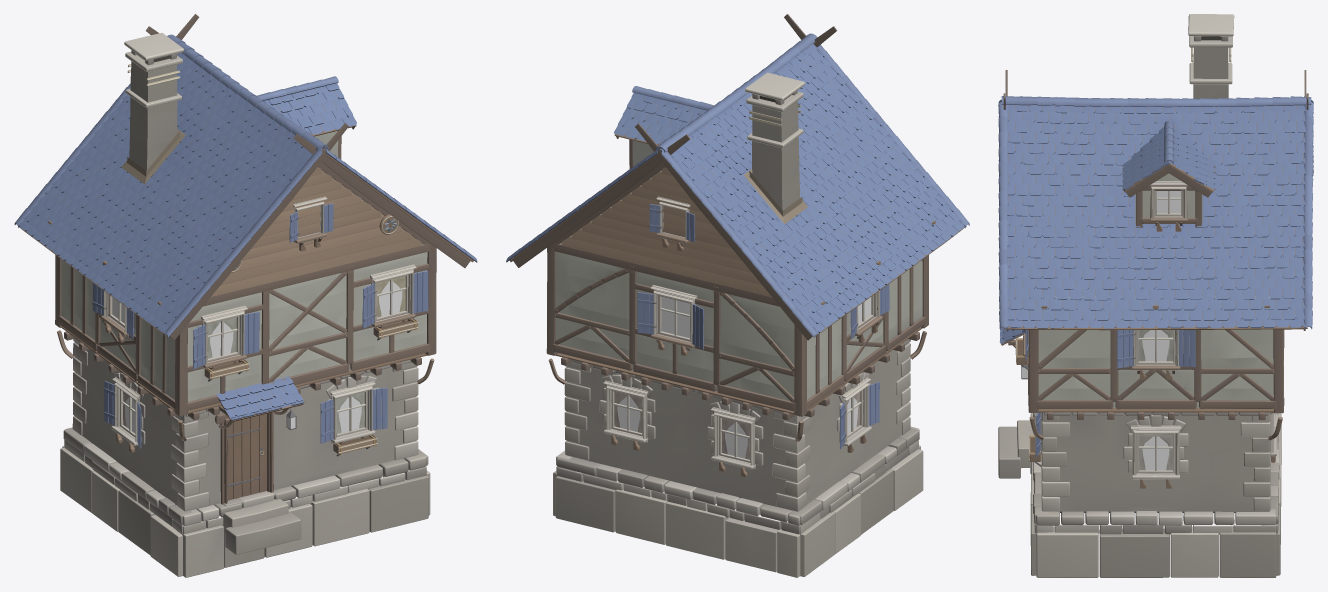
File: bd_house_h8.glb
3 renders of one model, left to right at view 1: azimuth 30°, elevation 25°; view 2: azimuth 150°, elevation 25°; view 3: azimuth 270°, elevation 25°, orthographic.
Parts seen in each view (by area): view 1: BD_house_h8__body; view 2: BD_house_h8__body; view 3: BD_house_h8__body.
Boxes of the visible parts, x1,y1,x2,y2 form: BD_house_h8__body: (14,14,477,577); BD_house_h8__body: (506,14,969,577); BD_house_h8__body: (998,14,1313,577).
Bounding box in the file's own units: 8.06 × 11.27 × 6.99.
